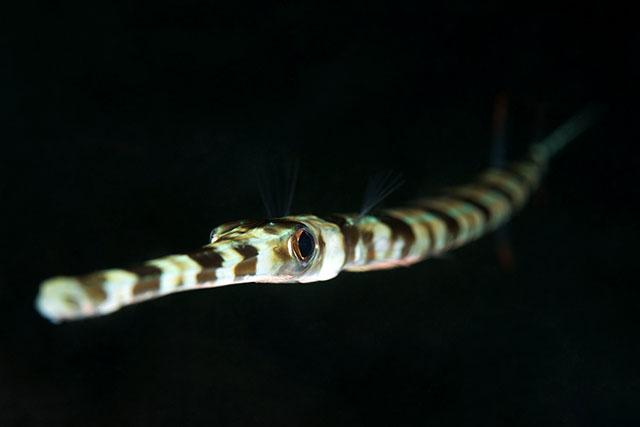Fistularia commersonii: (32, 100, 597, 325)
